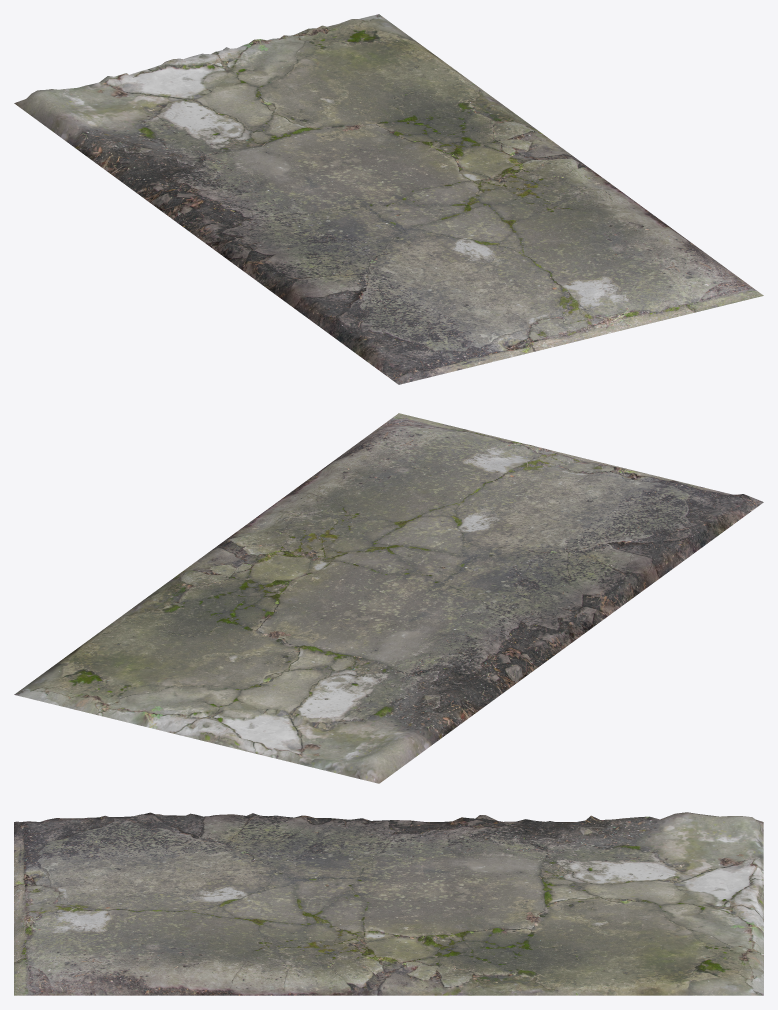
File: sm_Ground_02_01.fbx
3 views of the same model, one above another, from view 1: azimuth 30°, elevation 25°; view 2: azimuth 150°, elevation 25°; view 3: azimuth 270°, elevation 25° (orthographic). The views are drawn at different scales.
Visible parts, largest first — view 1: sm_Ground_02_01_LOD0; view 2: sm_Ground_02_01_LOD0; view 3: sm_Ground_02_01_LOD0.
Part boxes in pixels (<box>): sm_Ground_02_01_LOD0: <box>14,14,763,384</box>; sm_Ground_02_01_LOD0: <box>14,413,763,783</box>; sm_Ground_02_01_LOD0: <box>14,812,763,995</box>.
Size of the model in its own units: 219 by 400 by 8.77.
